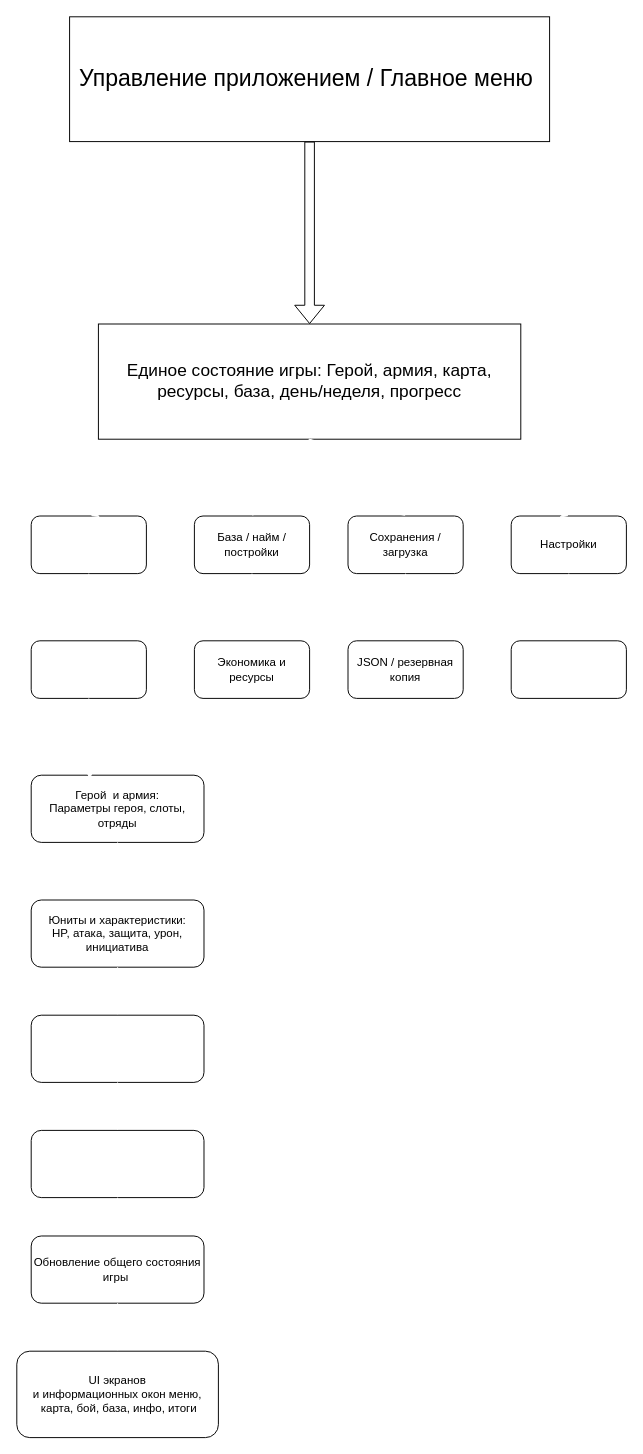
Image size: 643x1454. Some labels were removed from this diagram. Here are the shapes that lost their labels. From the top down, the centre of each, then its label:
At pixel 88 544: "Карта Мира".
At pixel 88 669: "Объекты карты и взаимодействия".
At pixel 568 669: "Звук / язык / сложность / анимации".
At pixel 117 1048: "Боевой модуль: Стороны, ход по инициативе, выбор цели, расчет урона и потерь".
At pixel 117 1163: "Награды / опыт / артефакты".
